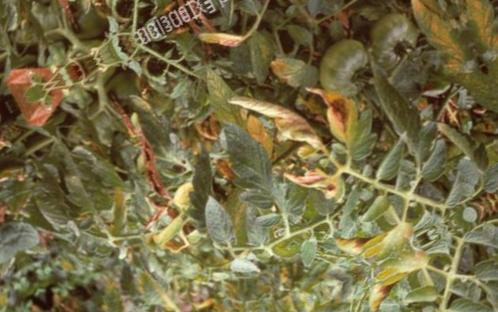Tomato Early blight leaf: (226, 66, 331, 181), (360, 52, 442, 161), (212, 111, 291, 213), (305, 69, 382, 167), (389, 0, 480, 81), (327, 202, 417, 277), (433, 104, 498, 184), (276, 148, 350, 217), (194, 189, 241, 249)
